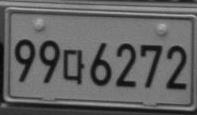2: (165, 44, 187, 90), (114, 42, 136, 87)
6: (89, 41, 112, 87)
7: (139, 44, 162, 89)
9: (13, 37, 36, 82), (38, 39, 60, 83)
다: (62, 48, 84, 85)
